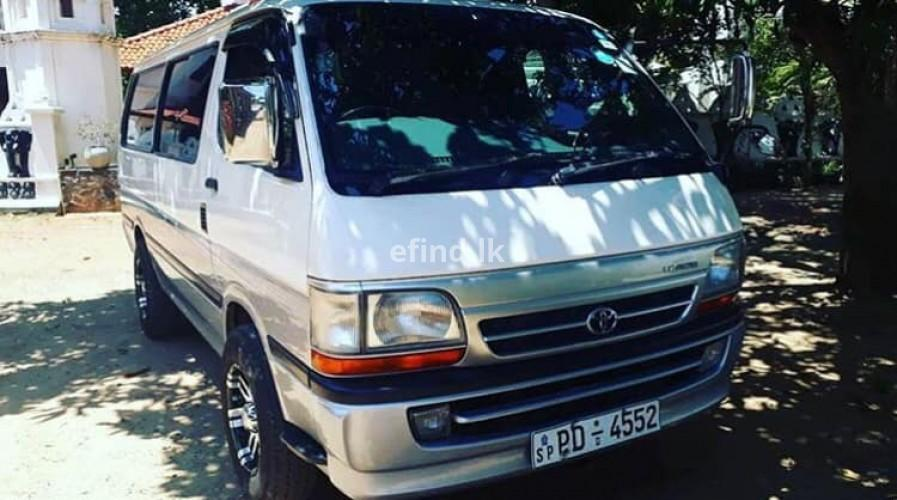car: (116, 0, 748, 500)
